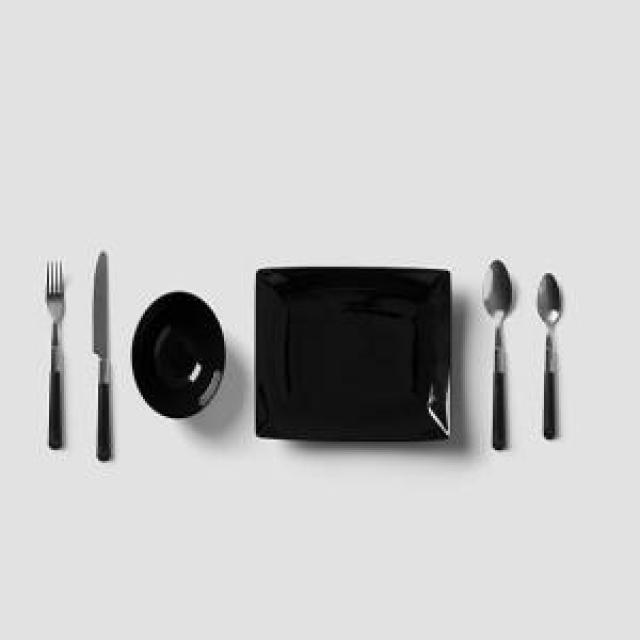knife: (85, 250, 116, 467)
